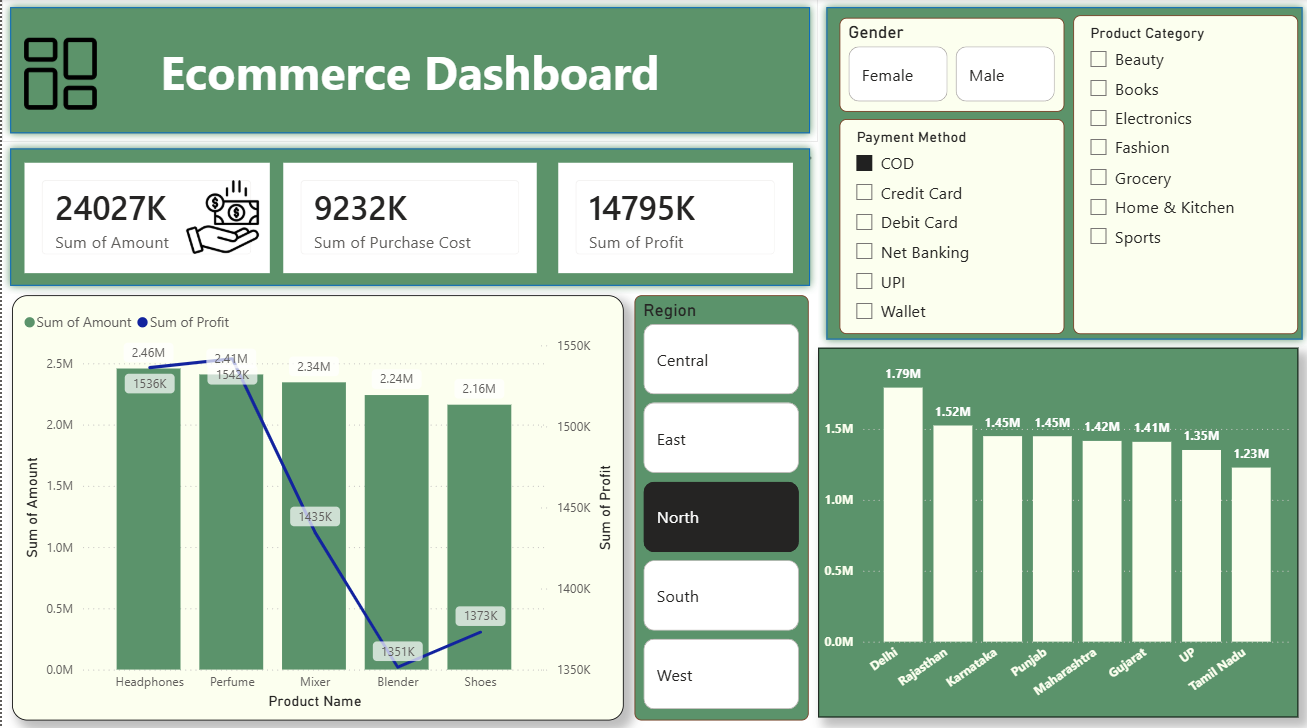

Layout of this report page (visuals, bound fields, positions):
{"tool":"powerbi","page":{"name":"Page 1","canvas":[1280,720],"ordinal":0},"visuals":[{"type":"textbox","box":[10,0,280,280],"z":0},{"type":"shape","box":[0,0,798.5,139.4],"z":1000},{"type":"shape","box":[0,138.2,798.5,150.4],"z":2000},{"type":"shape","box":[798.5,0,481.8,341.2],"z":3000},{"type":"advancedSlicerVisual","fields":{"Values":["Ecommerce Sales Data.Gender"]},"box":[819.3,18.3,220.1,91.7],"z":4000},{"type":"slicer","fields":{"Values":["Ecommerce Sales Data.Payment Method"]},"box":[819.3,117.4,220.1,210.3],"z":5000},{"type":"slicer","fields":{"Values":["Ecommerce Sales Data.Product Category"]},"box":[1048,15.9,220.1,311.8],"z":6000},{"type":"cardVisual","fields":{"Data":["Sum(Ecommerce Sales Data.Amount)"]},"box":[22,160.2,239.7,107.6],"z":7000},{"type":"cardVisual","fields":{"Data":["Sum(Ecommerce Sales Data.Purchase Cost)"]},"box":[275.1,160.2,248.2,107.6],"z":8000},{"type":"cardVisual","fields":{"Data":["Sum(Ecommerce Sales Data.Profit)"]},"box":[544.2,160.2,229.9,107.6],"z":9000},{"type":"lineStackedColumnComboChart","fields":{"Category":["Ecommerce Sales Data.Product Name"],"Y":["Sum(Ecommerce Sales Data.Amount)"],"Y2":["Sum(Ecommerce Sales Data.Profit)"]},"box":[9.5,289.8,598.6,416.3],"z":10000},{"type":"advancedSlicerVisual","fields":{"Values":["Ecommerce Sales Data.Region"]},"box":[619,289.8,170.1,416.3],"z":11000},{"type":"lineStackedColumnComboChart","fields":{"Category":["Ecommerce Sales Data.State"],"Y":["Sum(Ecommerce Sales Data.Amount)"]},"box":[798.6,341.5,469.4,361.9],"z":12000},{"type":"image","box":[0,38.1,114.3,70.7],"z":13000},{"type":"image","box":[179.6,176.9,72.1,72.1],"z":14000}]}

Visuals, with their boxes in screenshot pixels (x1, y1, x2, y2), scaled from the page's 1280x720 canvas onto the 1307x728 screenshot:
textbox: x1=10 y1=0 x2=296 y2=283
shape: x1=0 y1=0 x2=815 y2=141
shape: x1=0 y1=140 x2=815 y2=292
shape: x1=815 y1=0 x2=1306 y2=345
advancedSlicerVisual - Ecommerce Sales Data.Gender: x1=837 y1=19 x2=1061 y2=111
slicer - Ecommerce Sales Data.Payment Method: x1=837 y1=119 x2=1061 y2=331
slicer - Ecommerce Sales Data.Product Category: x1=1070 y1=16 x2=1295 y2=331
cardVisual - Sum(Ecommerce Sales Data.Amount): x1=22 y1=162 x2=267 y2=271
cardVisual - Sum(Ecommerce Sales Data.Purchase Cost): x1=281 y1=162 x2=534 y2=271
cardVisual - Sum(Ecommerce Sales Data.Profit): x1=556 y1=162 x2=790 y2=271
lineStackedColumnComboChart - Ecommerce Sales Data.Product Name x Sum(Ecommerce Sales Data.Amount): x1=10 y1=293 x2=621 y2=714
advancedSlicerVisual - Ecommerce Sales Data.Region: x1=632 y1=293 x2=806 y2=714
lineStackedColumnComboChart - Ecommerce Sales Data.State x Sum(Ecommerce Sales Data.Amount): x1=815 y1=345 x2=1295 y2=711
image: x1=0 y1=39 x2=117 y2=110
image: x1=183 y1=179 x2=257 y2=252
